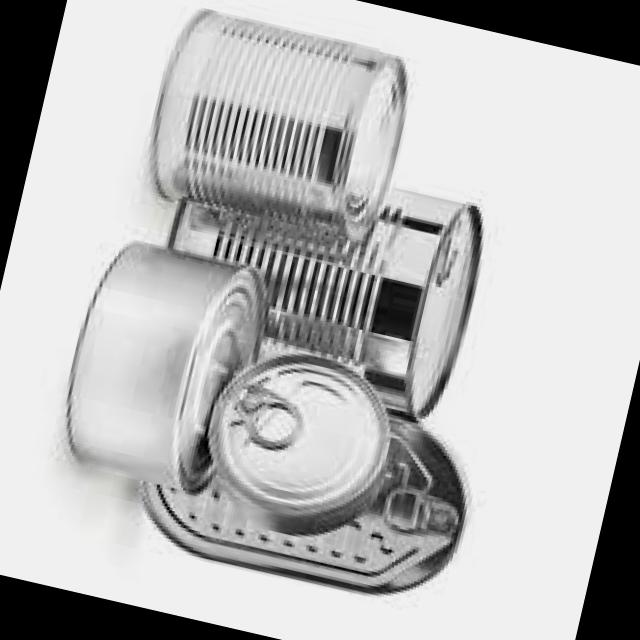metal: (171, 191, 480, 419), (154, 11, 405, 239), (141, 419, 466, 595), (68, 243, 265, 493), (206, 355, 389, 536)
